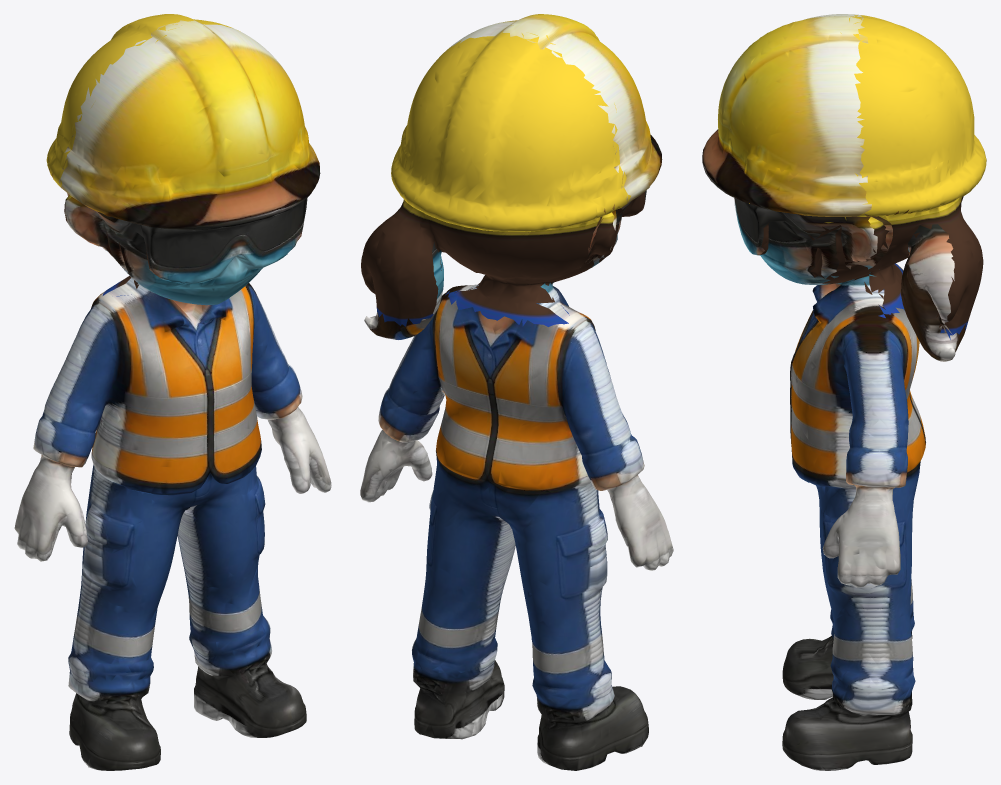
The model's file is worker-female.glb.
The picture shows the model from 3 angles, left to right: view 1: azimuth 30°, elevation 25°; view 2: azimuth 150°, elevation 25°; view 3: azimuth 270°, elevation 25°; orthographic projection.
Parts seen in each view (by area): view 1: geometry_0; view 2: geometry_0; view 3: geometry_0.
Boxes of the visible parts, x1,y1,x2,y2 form: geometry_0: [14, 14, 331, 770]; geometry_0: [360, 14, 673, 770]; geometry_0: [702, 14, 986, 770].
Size of the model in its own units: 0.8714 by 1.96 by 0.7224.
Materials: 1 (1 with a texture image).
